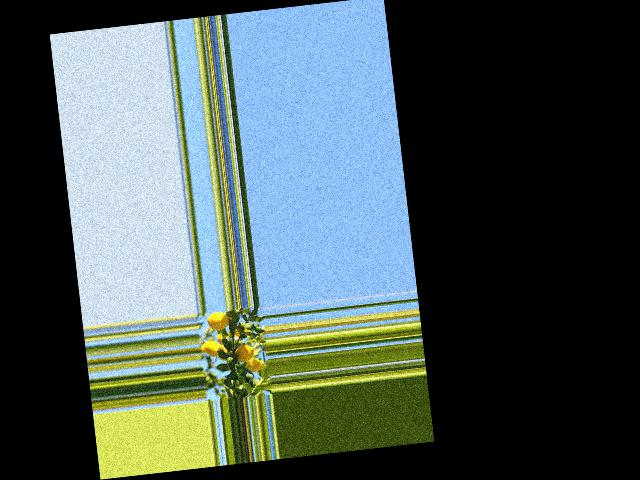lemon: (203, 309, 232, 333)
